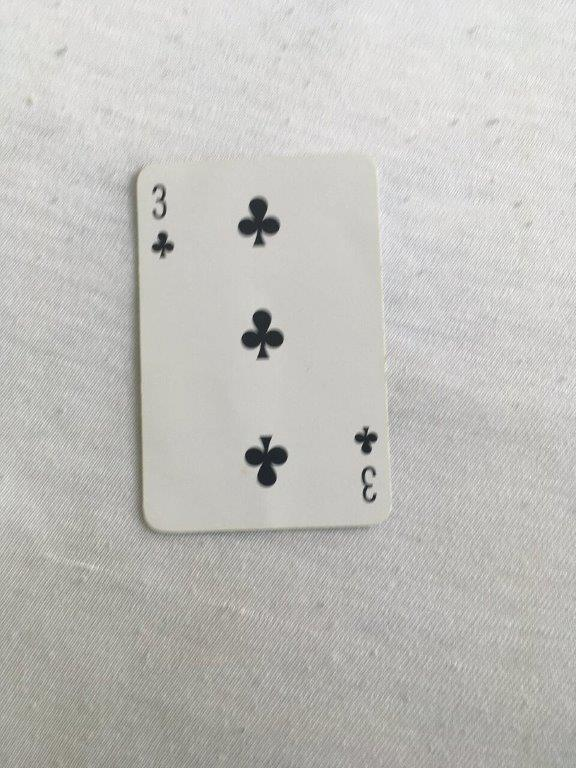3C: (132, 149, 396, 535)
